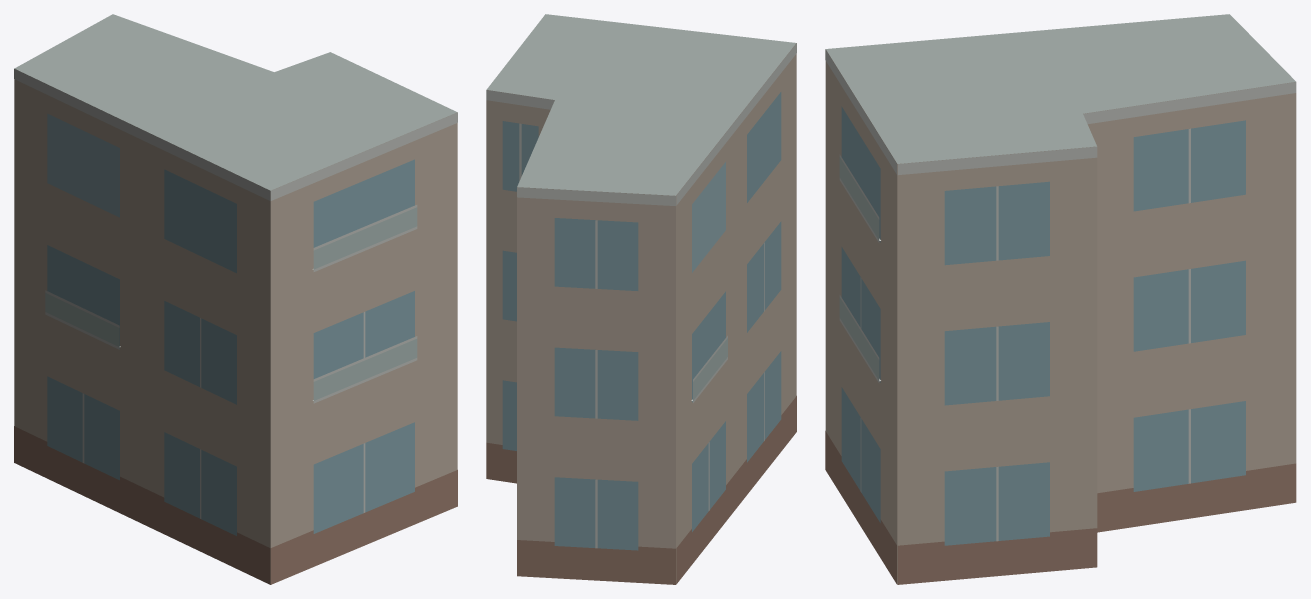
File: survey-upis-32467496.glb
3 renders of one model, left to right at view 1: azimuth 30°, elevation 25°; view 2: azimuth 150°, elevation 25°; view 3: azimuth 270°, elevation 25°, orthographic. The views are drawn at different scales.
Parts seen in each view (by area): view 1: survey-upis-32467496.tmp; view 2: survey-upis-32467496.tmp; view 3: survey-upis-32467496.tmp.
Part boxes in pixels (x1,y1,x2,y2): survey-upis-32467496.tmp: [14, 14, 457, 584]; survey-upis-32467496.tmp: [486, 14, 796, 584]; survey-upis-32467496.tmp: [825, 14, 1296, 584].
Size of the model in its own units: 7 by 9.15 by 9.29.
